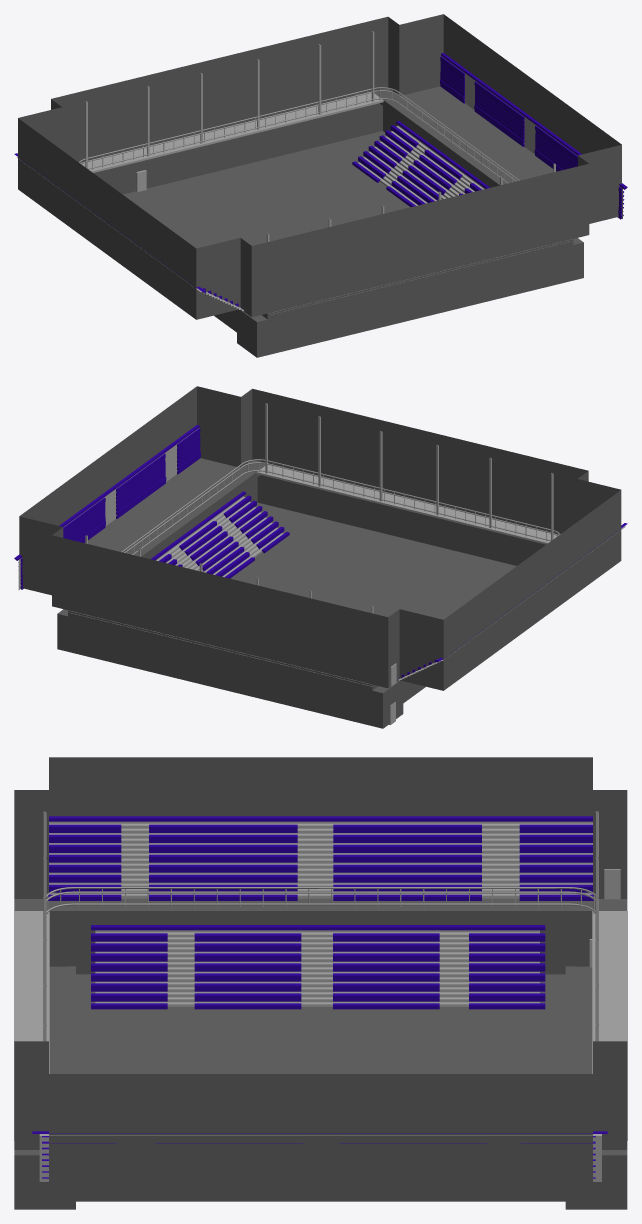
The model's file is gym.fbx.
The picture shows the model from 3 angles, top to bottom: view 1: azimuth 30°, elevation 25°; view 2: azimuth 150°, elevation 25°; view 3: azimuth 270°, elevation 25°; orthographic projection. The views are drawn at different scales.
Visible parts, largest first — view 1: pCube67; view 2: pCube67; view 3: pCube67.
Part boxes in pixels (x1,y1,x2,y2): pCube67: (14,14,627,357); pCube67: (14,386,627,728); pCube67: (14,757,627,1209).
Size of the model in its own units: 230 by 59.09 by 188.
